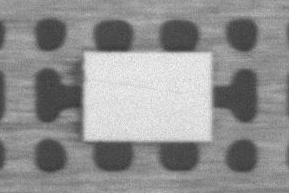DIE_CRACK: (126, 52, 273, 62)
